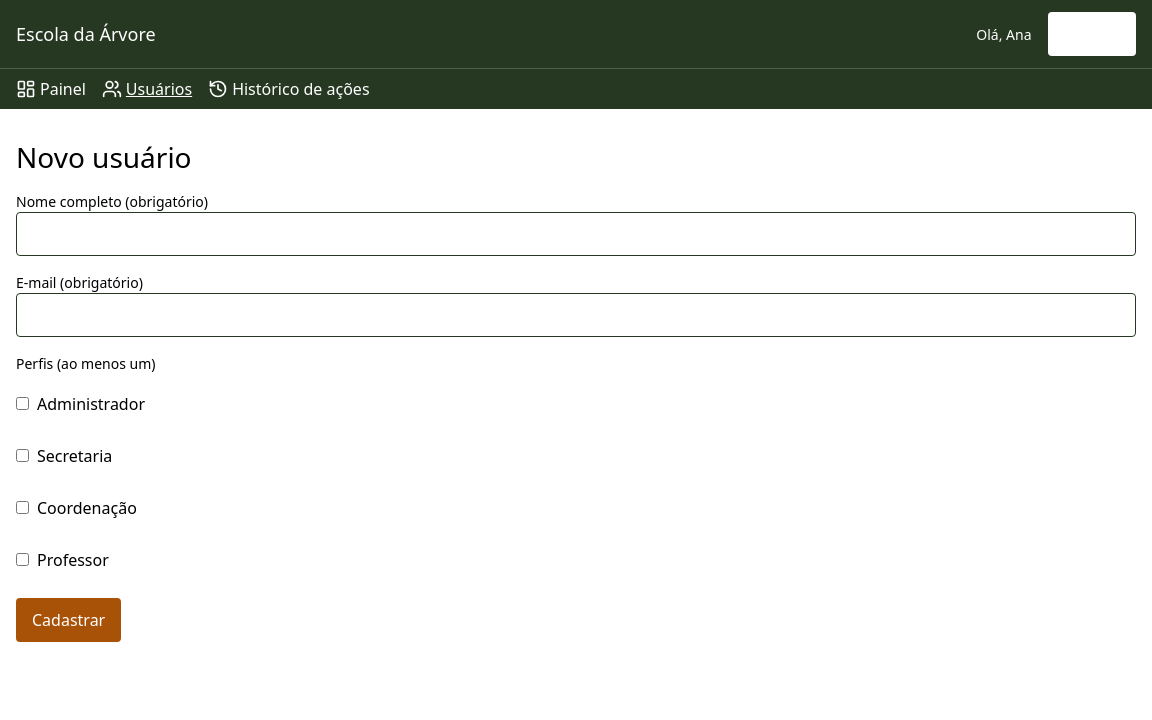
Scenario: US2 — cadastro de usuário › recusa e-mail repetido em qualquer caixa
This screenshot has width=1152, height=720.
Step 1. Type "Duplicado" into the field labelled "Nome completo (obrigatório)" → coordinates (576, 234), box [16,212,1136,256]
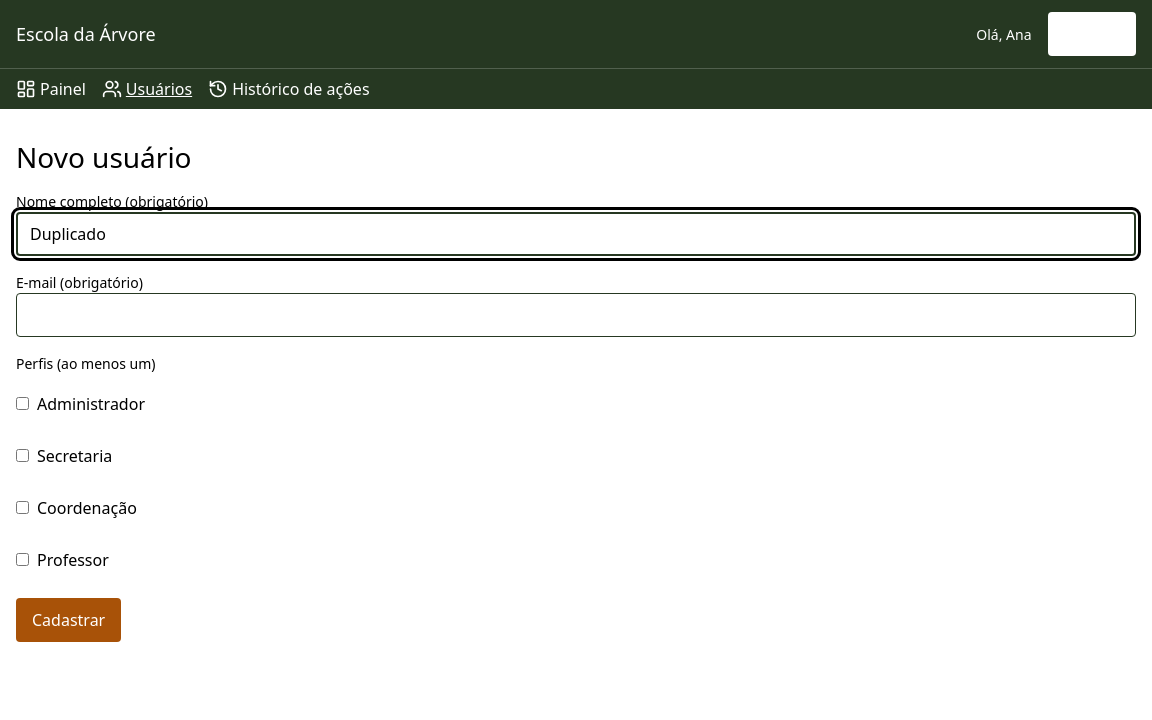
Step 2. Type "EXISTENTE@escola.local" into the field labelled "E-mail (obrigatório)" → coordinates (576, 315), box [16,293,1136,337]
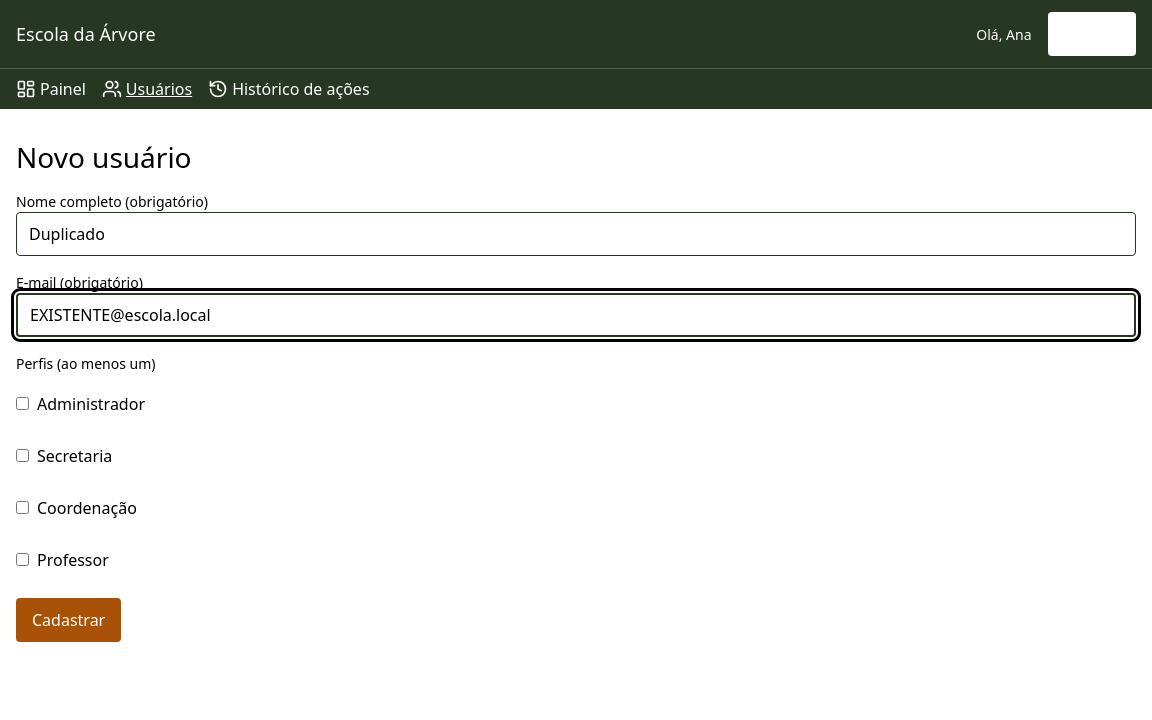
Step 3. Click the checkbox labelled "Secretaria" → coordinates (22, 456), box [16,449,29,462]
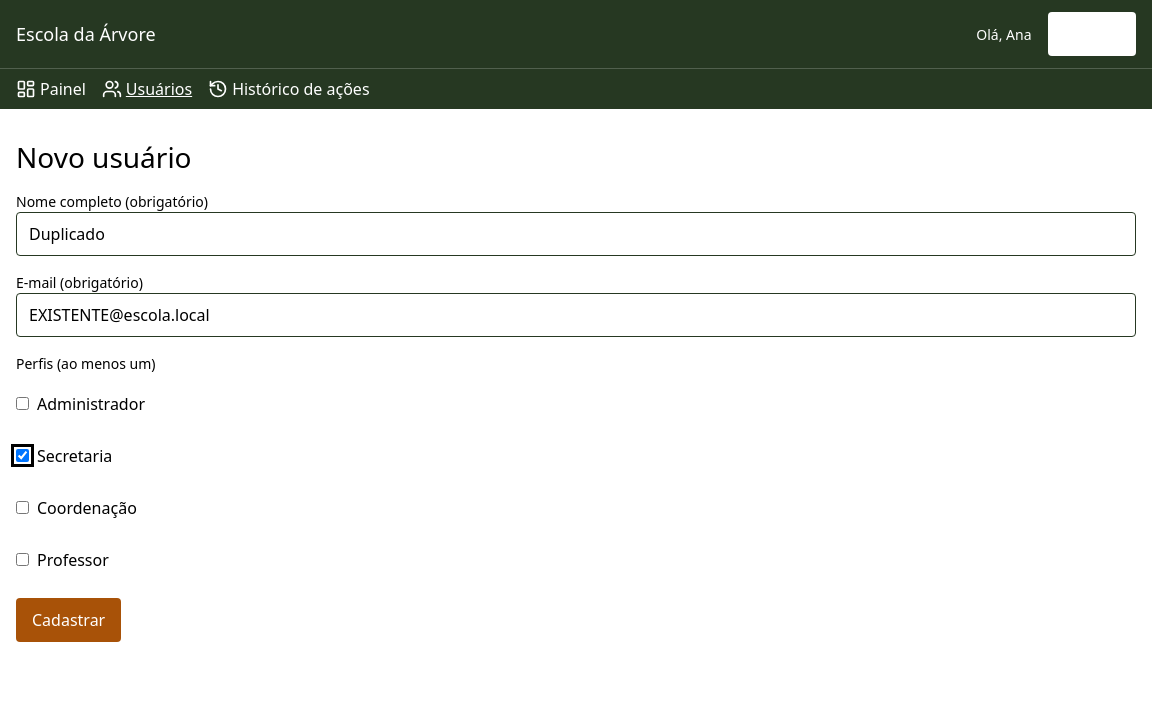
Step 4. Click the button "Cadastrar" → coordinates (69, 620), box [16,598,121,642]
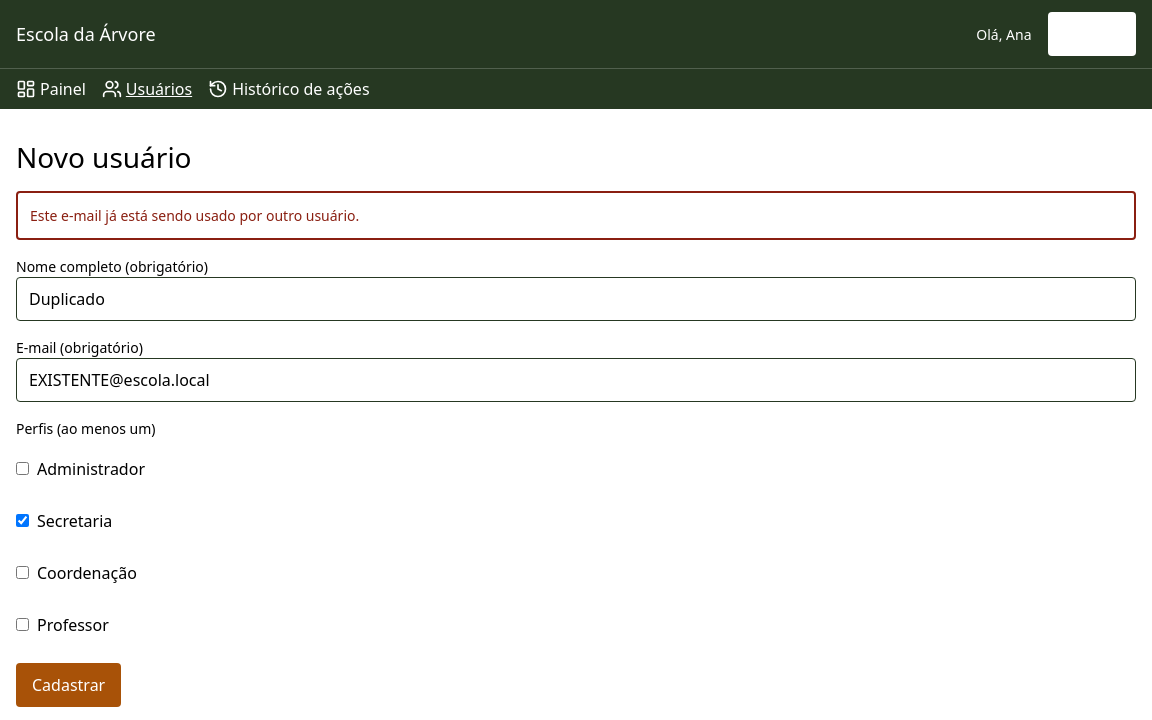
Expected: the text "Este e-mail já está sendo usado por outro usuário." is shown, [16,191,1136,240]
